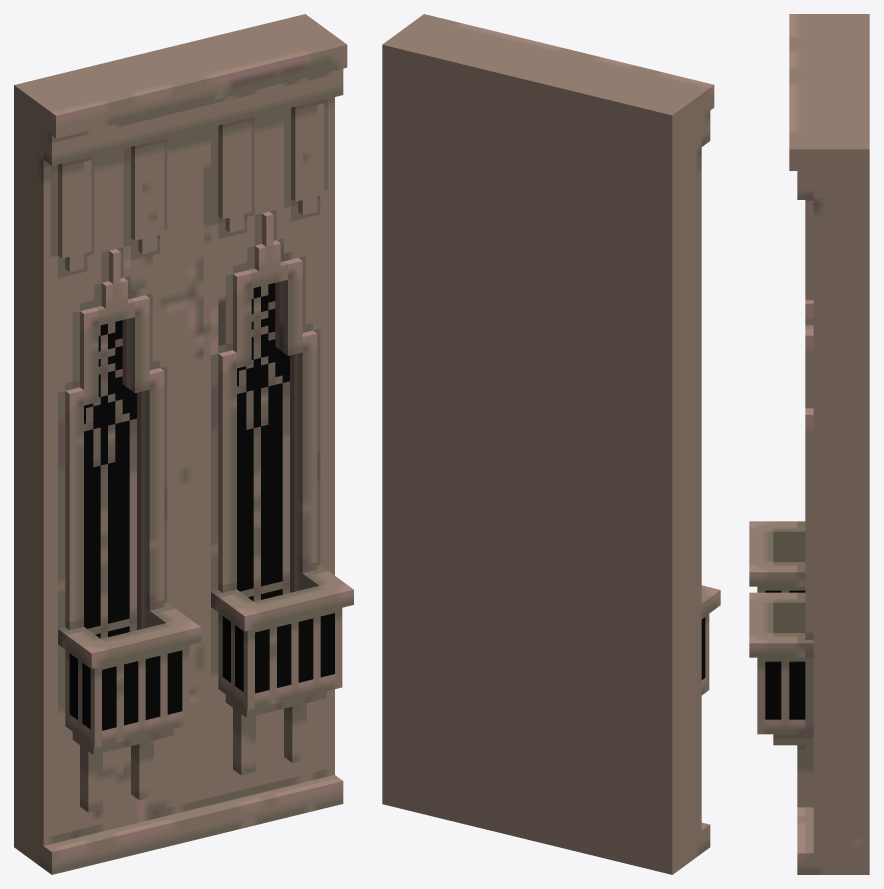
Rendered from Wall_Medium_Window_Chunk-1.fbx.
The picture shows the model from 3 angles, left to right: view 1: azimuth 30°, elevation 25°; view 2: azimuth 150°, elevation 25°; view 3: azimuth 270°, elevation 25°; orthographic projection. The views are drawn at different scales.
Visible parts, largest first — view 1: Wall_Medium_Window_Chunk-1; view 2: Wall_Medium_Window_Chunk-1; view 3: Wall_Medium_Window_Chunk-1.
Boxes of the visible parts, <box> form: Wall_Medium_Window_Chunk-1: <box>14,14,353,874</box>; Wall_Medium_Window_Chunk-1: <box>382,14,720,874</box>; Wall_Medium_Window_Chunk-1: <box>749,14,869,874</box>.
Bounding box in the file's own units: 200 × 500 × 75.
